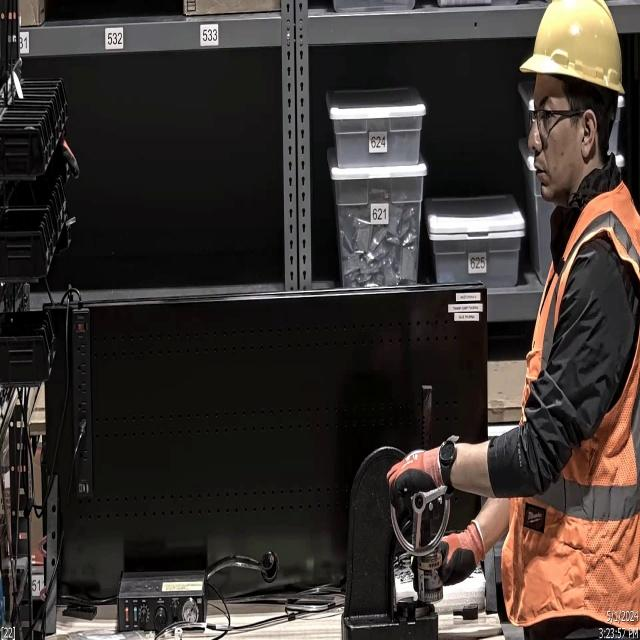gloves: (389, 439, 460, 528), (414, 518, 486, 601)
